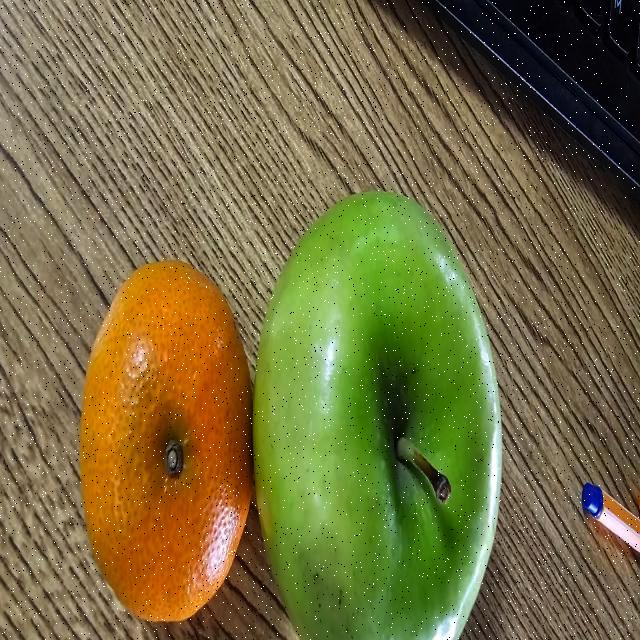Apel Granny Smith: (252, 188, 507, 640)
Jeruk Mandarin: (75, 253, 258, 628)
